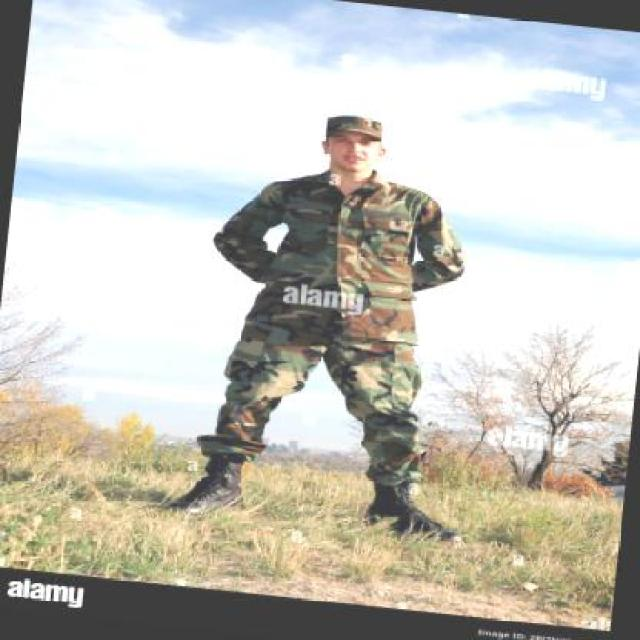MIL_Pax: (157, 97, 483, 545)
